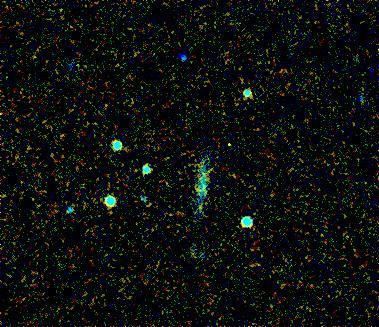star: (211, 132, 241, 162)
